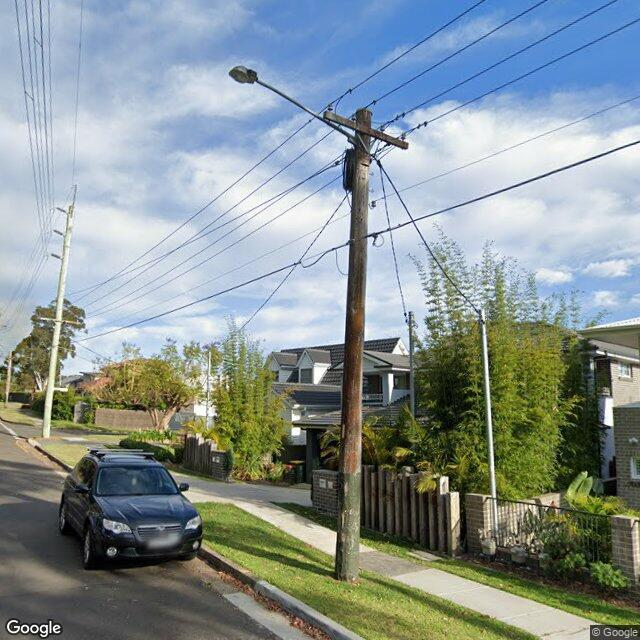HV-transmission: (50, 183, 78, 260)
crossarm: (324, 111, 408, 149)
steel-pole: (478, 308, 498, 532), (408, 309, 414, 422), (206, 351, 212, 431)
streetlight: (227, 65, 358, 145)
timber-pole: (334, 109, 373, 582), (43, 205, 74, 438), (4, 349, 13, 407)
